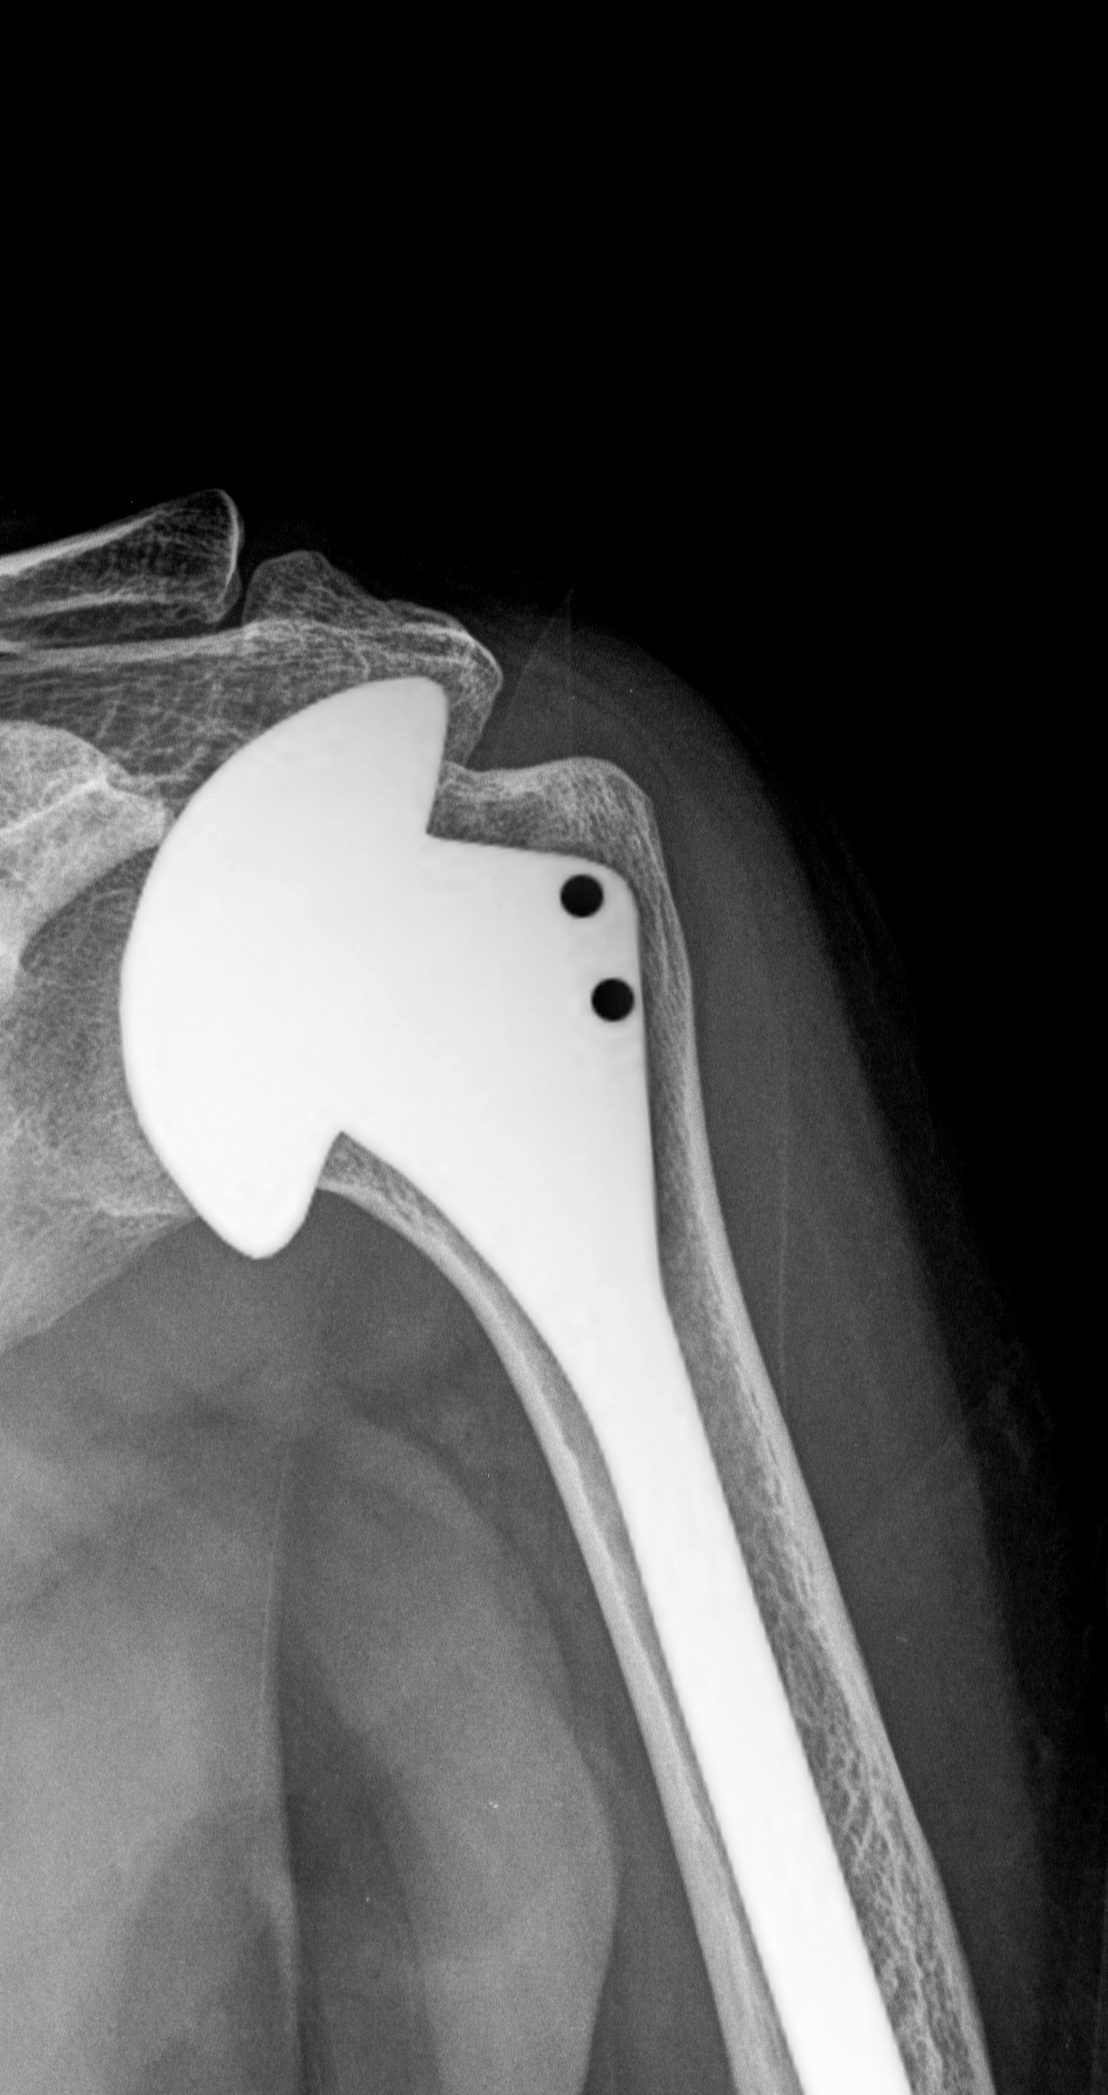Shoulder - Aequalishead - Tornier: (96, 651, 490, 1286)
Shoulder - Aequalistail - Tornier: (240, 664, 715, 1401)
